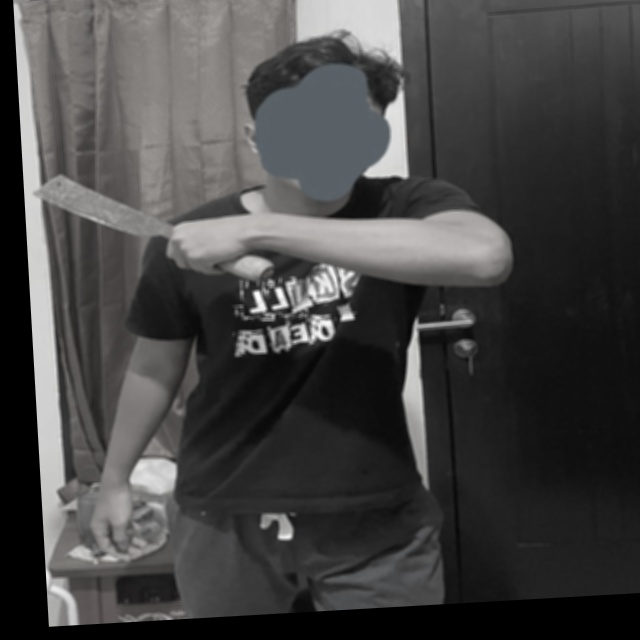Sharp-Object: (29, 158, 278, 297)
